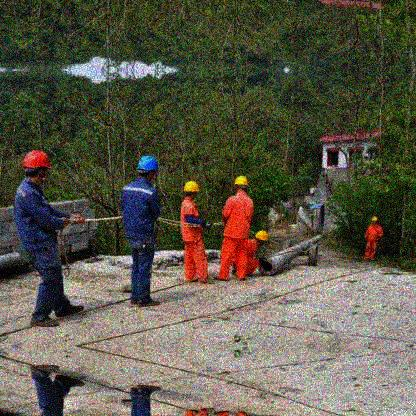helmet: (22, 150, 54, 186), (136, 155, 160, 185), (183, 182, 201, 201), (232, 174, 248, 194), (255, 229, 268, 249), (371, 215, 378, 226)
